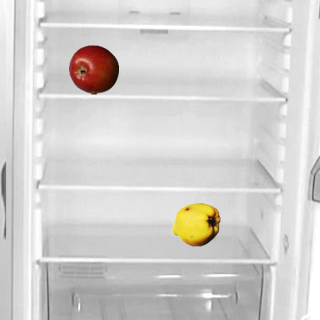Apple Braeburn: (68, 44, 118, 94)
Quince: (170, 199, 220, 249)
